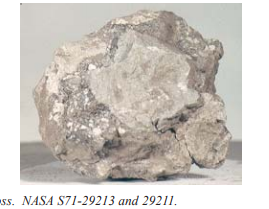Breccia: (25, 12, 238, 183), (50, 39, 214, 159)
